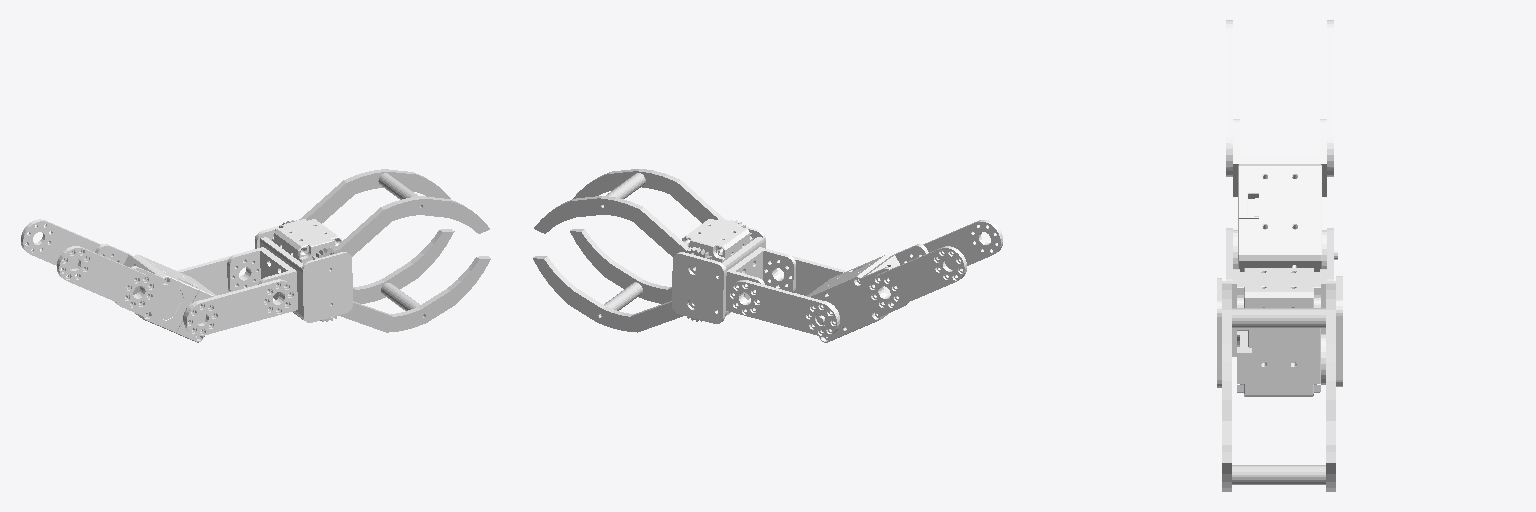
robot.urdf — s500_uam:
<?xml version="1.0" encoding="utf-8"?>
<!-- This URDF was automatically created by SolidWorks to URDF Exporter! Originally created by [author] ([email redacted]) 
     Commit Version: 1.6.0-4-g7f85cfe  Build Version: 1.6.7995.38578
     For more information, please see http://wiki.ros.org/sw_urdf_exporter -->
<robot name="s500_uam">
  <link name="base_link">
    <inertial>
      <origin
        xyz="0 0 0"
        rpy="0 0 0" />
      <mass
        value="1.772" />
      <inertia
        ixx="0.0165"
        ixy="0.0"
        ixz="0.0"
        iyy="0.0186"
        iyz="0.0"
        izz="0.0250" />
    </inertial>
    <visual>
      <origin
        xyz="0 0 0"
        rpy="0 0 0" />
      <geometry>
        <mesh
          filename="package://s500_quadrotor/meshes/base_link.STL" />
      </geometry>
      <material
        name="">
        <color
          rgba="0.752941176470588 0.752941176470588 0.752941176470588 1" />
      </material>
    </visual>
    <collision>
      <origin
        xyz="0 0 0"
        rpy="0 0 0" />
      <geometry>
        <mesh
          filename="package://s500_quadrotor/meshes/base_link.STL" />
      </geometry>
    </collision>
  </link>
  <link name="rotor_1">
    <inertial>
      <origin
        xyz="3.9471E-08 0.025041 -1.4592E-05"
        rpy="0 0 0" />
      <mass
        value="0.010198" />
      <inertia
        ixx="3.3719E-05"
        ixy="7.4123E-13"
        ixz="-4.3241E-07"
        iyy="3.3918E-05"
        iyz="-3.8834E-11"
        izz="2.8343E-07" />
    </inertial>
    <visual>
      <origin
        xyz="0 0 0"
        rpy="0 0 0" />
      <geometry>
        <mesh
          filename="package://s500_quadrotor/meshes/iris_prop_ccw.dae" />
      </geometry>
      <material
        name="">
        <color
          rgba="0.79216 0.81961 0.93333 1" />
      </material>
    </visual>
    <collision>
      <origin
        xyz="0 0 0"
        rpy="0 0 0" />
      <geometry>
        <mesh
          filename="package://s500_quadrotor/meshes/rotor_1.STL" />
      </geometry>
    </collision>
  </link>
  <joint name="rotor_joint_1" type="continuous">
    <origin
      xyz="0.171 0.171 0.045"
      rpy="0 0 0" />
    <parent
      link="base_link" />
    <child
      link="rotor_1" />
    <axis
      xyz="0 1 0" />
  </joint>
  <link name="rotor_2">
    <inertial>
      <origin
        xyz="8.1559E-08 0.027195 -1.4122E-05"
        rpy="0 0 0" />
      <mass
        value="0.010198" />
      <inertia
        ixx="3.3719E-05"
        ixy="-8.3558E-13"
        ixz="-4.3246E-07"
        iyy="3.3919E-05"
        iyz="-4.2468E-11"
        izz="2.8344E-07" />
    </inertial>
    <visual>
      <origin
        xyz="0 0 0"
        rpy="0 0 0" />
      <geometry>
        <mesh
          filename="package://s500_quadrotor/meshes/iris_prop_ccw.dae" />
      </geometry>
      <material
        name="">
        <color
          rgba="0.79216 0.81961 0.93333 1" />
      </material>
    </visual>
    <collision>
      <origin
        xyz="0 0 0"
        rpy="0 0 0" />
      <geometry>
        <mesh
          filename="package://s500_quadrotor/meshes/rotor_2.STL" />
      </geometry>
    </collision>
  </link>
  <joint name="rotor_joint_2" type="continuous">
    <origin
      xyz="-0.171 0.171 0.045"
      rpy="0 0 0" />
    <parent
      link="base_link" />
    <child
      link="rotor_2" />
    <axis
      xyz="0 1 0" />
  </joint>
  <link name="rotor_3">
    <inertial>
      <origin
        xyz="9.9115E-08 0.011499 -1.3684E-05"
        rpy="0 0 0" />
      <mass
        value="0.010198" />
      <inertia
        ixx="3.3719E-05"
        ixy="1.6825E-12"
        ixz="-4.3246E-07"
        iyy="3.3919E-05"
        iyz="-5.4463E-11"
        izz="2.8343E-07" />
    </inertial>
    <visual>
      <origin
        xyz="0 0 0"
        rpy="0 0 0" />
      <geometry>
        <mesh
          filename="package://s500_quadrotor/meshes/iris_prop_cw.dae" />
      </geometry>
      <material
        name="">
        <color
          rgba="0.79216 0.81961 0.93333 1" />
      </material>
    </visual>
    <collision>
      <origin
        xyz="0 0 0"
        rpy="0 0 0" />
      <geometry>
        <mesh
          filename="package://s500_quadrotor/meshes/rotor_3.STL" />
      </geometry>
    </collision>
  </link>
  <joint name="rotor_joint_3" type="continuous">
    <origin
      xyz="-0.171 -0.171 0.045"
      rpy="0 0 0" />
    <parent
      link="base_link" />
    <child
      link="rotor_3" />
    <axis
      xyz="0 1 0" />
  </joint>
  <link name="rotor_4">
    <inertial>
      <origin
        xyz="1.4103E-07 0.009346 -1.3967E-05"
        rpy="0 0 0" />
      <mass
        value="0.010198" />
      <inertia
        ixx="3.3719E-05"
        ixy="1.1737E-12"
        ixz="-4.3243E-07"
        iyy="3.3918E-05"
        iyz="-4.6991E-11"
        izz="2.8343E-07" />
    </inertial>
    <visual>
      <origin
        xyz="0 0 0"
        rpy="0 0 0" />
      <geometry>
        <mesh
          filename="package://s500_quadrotor/meshes/iris_prop_cw.dae" />
      </geometry>
      <material
        name="">
        <color
          rgba="0.79216 0.81961 0.93333 1" />
      </material>
    </visual>
    <collision>
      <origin
        xyz="0 0 0"
        rpy="0 0 0" />
      <geometry>
        <mesh
          filename="package://s500_quadrotor/meshes/rotor_4.STL" />
      </geometry>
    </collision>
  </link>
  <joint name="rotor_joint_4" type="continuous">
    <origin
      xyz="0.1701 -0.1701 0.0603"
      rpy="0 0 0" />
    <parent
      link="base_link" />
    <child
      link="rotor_4" />
    <axis
      xyz="0 1 0" />
  </joint>
  <link name="link_1">
    <inertial>
      <origin
        xyz="-5.7463E-12 -0.00019643 -0.076809"
        rpy="0 0 0" />
      <mass
        value="0.056776" />
      <inertia
        ixx="1.5689E-05"
        ixy="-1.0155E-16"
        ixz="-5.2428E-15"
        iyy="1.3617E-05"
        iyz="-1.6017E-09"
        izz="8.7857E-06" />
    </inertial>
    <visual>
      <origin
        xyz="0 0 0"
        rpy="0 0 0" />
      <geometry>
        <mesh
          filename="package://s500_uam/meshes/link_1.STL" />
      </geometry>
      <material
        name="">
        <color
          rgba="1 1 1 1" />
      </material>
    </visual>
    <collision>
      <origin
        xyz="0 0 0"
        rpy="0 0 0" />
      <geometry>
        <mesh
          filename="package://s500_uam/meshes/link_1.STL" />
      </geometry>
    </collision>
  </link>
  <joint name="joint_1"
    type="continuous">
    <origin
      xyz="0.0007 0 -0.07275"
      rpy="0 -1 0" />
    <parent
      link="base_link" />
    <child
      link="link_1" />
    <axis
      xyz="0 1 0" />
  </joint>
  <link name="link_2">
    <inertial>
      <origin
        xyz="0.00057539 0.00024651 -0.072261"
        rpy="0 0 0" />
      <mass
        value="0.065663" />
      <inertia
        ixx="1.3006E-05"
        ixy="2.5553E-07"
        ixz="4.4082E-09"
        iyy="1.4985E-05"
        iyz="-6.0777E-07"
        izz="1.6054E-05" />
    </inertial>
    <visual>
      <origin
        xyz="0 0 0"
        rpy="0 0 0" />
      <geometry>
        <mesh
          filename="package://s500_uam/meshes/link_2.STL" />
      </geometry>
      <material
        name="">
        <color
          rgba="1 1 1 1" />
      </material>
    </visual>
    <collision>
      <origin
        xyz="0 0 0"
        rpy="0 0 0" />
      <geometry>
        <mesh
          filename="package://s500_uam/meshes/link_2.STL" />
      </geometry>
    </collision>
  </link>
  <joint name="joint_2"
    type="continuous">
    <origin
      xyz="0 0 -0.09925"
      rpy="0 -0.6 0" />
    <parent
      link="link_1" />
    <child
      link="link_2" />
    <axis
      xyz="0 1 0" />
  </joint>
  <link name="link_3">
    <inertial>
      <origin
        xyz="0.025274 0.000991 -0.041284"
        rpy="0 0 0" />
      <mass
        value="0.012158" />
      <inertia
        ixx="1.0667E-05"
        ixy="-2.5213E-09"
        ixz="3.6553E-06"
        iyy="1.2675E-05"
        iyz="4.2721E-09"
        izz="2.4775E-06" />
    </inertial>
    <visual>
      <origin
        xyz="0 0 0"
        rpy="0 0 0" />
      <geometry>
        <mesh
          filename="package://s500_uam/meshes/link_3.STL" />
      </geometry>
      <material
        name="">
        <color
          rgba="0.92157 0.92157 0.92157 1" />
      </material>
    </visual>
    <collision>
      <origin
        xyz="0 0 0"
        rpy="0 0 0" />
      <geometry>
        <mesh
          filename="package://s500_uam/meshes/link_3.STL" />
      </geometry>
    </collision>
  </link>
  <joint name="joint_3"
    type="continuous">
    <origin
      xyz="-0.011 0 -0.08225"
      rpy="0 0.23432 3.1416" />
    <parent
      link="link_2" />
    <child
      link="link_3" />
    <axis
      xyz="0 1 0" />
  </joint>
  <link name="link_4">
    <inertial>
      <origin
        xyz="0.024422 -0.0009913 -0.039818"
        rpy="0 0 0" />
      <mass
        value="0.012587" />
      <inertia
        ixx="1.1294E-05"
        ixy="2.4212E-09"
        ixz="4.0228E-06"
        iyy="1.352E-05"
        iyz="-4.1022E-09"
        izz="2.6966E-06" />
    </inertial>
    <visual>
      <origin
        xyz="0 0 0"
        rpy="0 0 0" />
      <geometry>
        <mesh
          filename="package://s500_uam/meshes/link_4.STL" />
      </geometry>
      <material
        name="">
        <color
          rgba="0.92157 0.92157 0.92157 1" />
      </material>
    </visual>
    <collision>
      <origin
        xyz="0 0 0"
        rpy="0 0 0" />
      <geometry>
        <mesh
          filename="package://s500_uam/meshes/link_4.STL" />
      </geometry>
    </collision>
  </link>
  <joint name="joint_4"
    type="continuous">
    <origin
      xyz="0.011 0 -0.08225"
      rpy="0 0.26237 0" />
    <parent
      link="link_2" />
    <child
      link="link_4" />
    <axis
      xyz="0 1 0" />
  </joint>
</robot>

--- Facts derived from the render (not from the file) ---
The picture shows the robot from 3 angles, left to right: view 1: azimuth 30°, elevation 25°; view 2: azimuth 150°, elevation 25°; view 3: azimuth 270°, elevation 25°; orthographic projection.
Robot: s500_uam — 9 links, 8 joints (8 continuous); root link base_link; default pose: all joints at 0.
Visible links, largest first — view 1: link_2, link_1, link_4, link_3; view 2: link_2, link_1, link_4, link_3; view 3: link_1, link_2, link_4, link_3.
Link boxes in pixels (x1,y1,x2,y2): link_2: [178, 219, 352, 336]; link_1: [21, 219, 216, 342]; link_4: [271, 169, 489, 269]; link_3: [320, 229, 490, 332]; link_2: [672, 219, 846, 336]; link_1: [807, 220, 1002, 342]; link_4: [534, 169, 753, 269]; link_3: [533, 229, 701, 332]; link_1: [1226, 20, 1337, 271]; link_2: [1217, 228, 1342, 396]; link_4: [1222, 281, 1335, 420]; link_3: [1222, 421, 1335, 491].
Bounding box of the posed robot: 0.2826 × 0.051 × 0.101 m (x, y, z).
4 mesh visuals loaded from 7 distinct referenced files (4 binary STL); not drawn: 5 (reference not matched to a file when rendering).